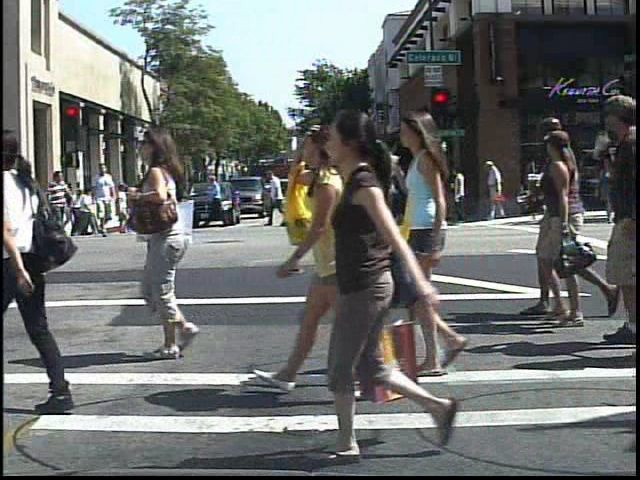person: (319, 103, 447, 465), (389, 103, 528, 380), (271, 114, 379, 399), (0, 116, 90, 425), (115, 117, 218, 363), (89, 160, 122, 240), (482, 155, 513, 227), (44, 164, 73, 240), (13, 170, 37, 242), (101, 178, 121, 219), (164, 175, 183, 210)
